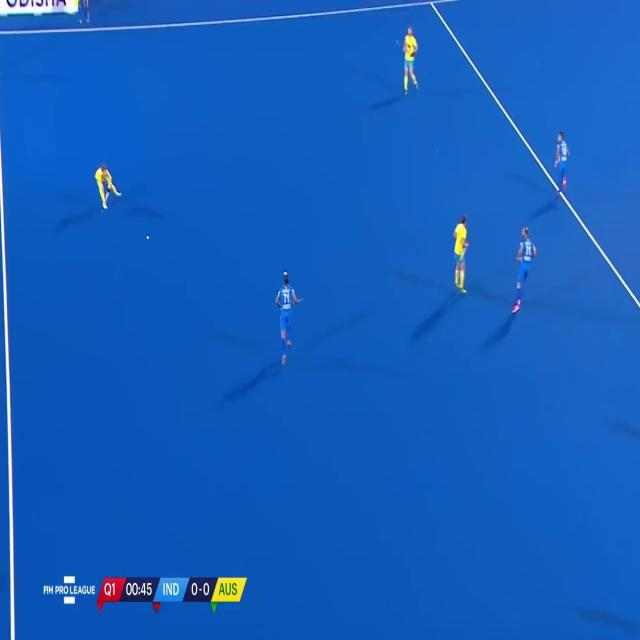ball: (144, 233, 151, 242)
